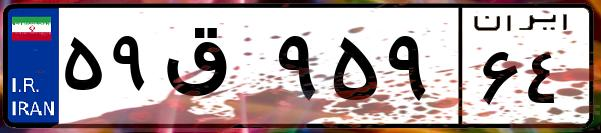4: (525, 38, 570, 115)
5: (330, 28, 385, 110), (57, 26, 110, 100)
6: (475, 38, 525, 113)
9: (270, 28, 330, 110), (385, 28, 445, 110), (110, 28, 158, 98)
ق: (158, 20, 270, 120)
